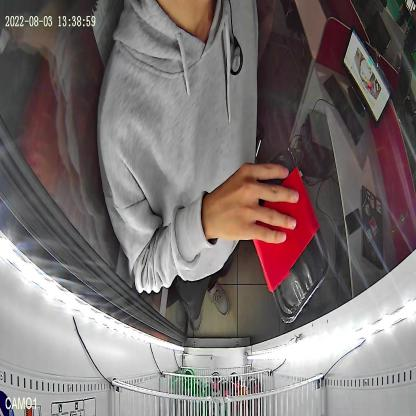red: (249, 148, 330, 324)
